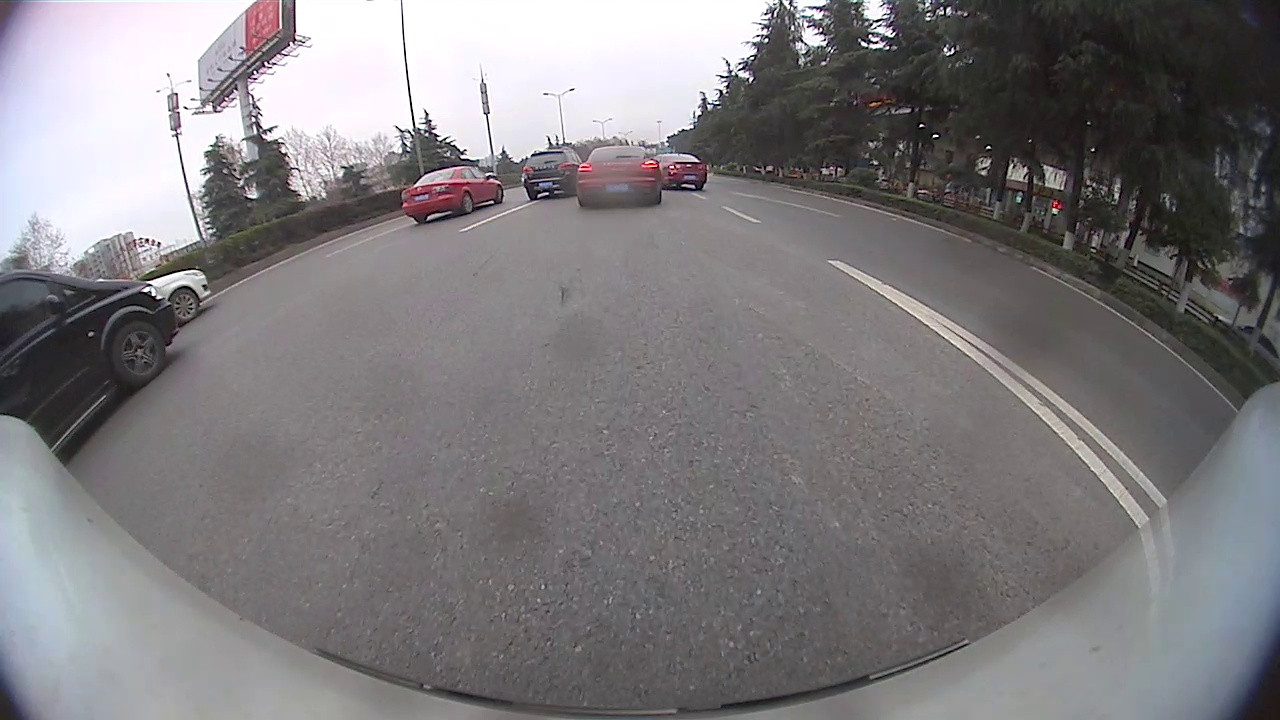car: (2, 269, 179, 457), (576, 144, 663, 208), (404, 166, 504, 221), (140, 267, 213, 322), (520, 150, 585, 198), (657, 155, 712, 190)
front: (108, 321, 168, 390), (166, 287, 202, 324), (494, 186, 504, 206)
rear: (460, 191, 475, 216)
